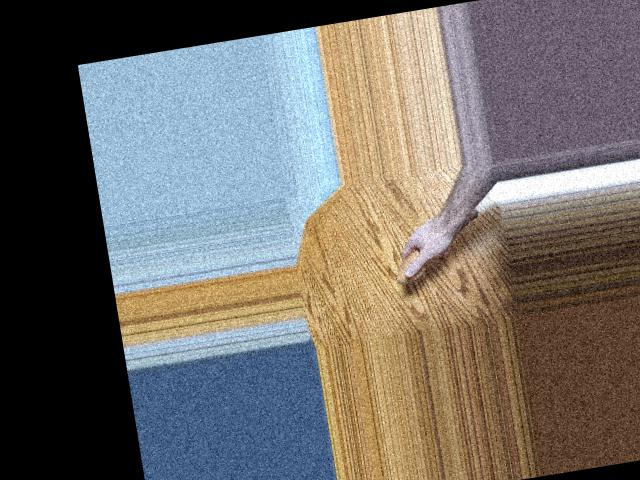sweet_potato: (386, 209, 486, 286)
